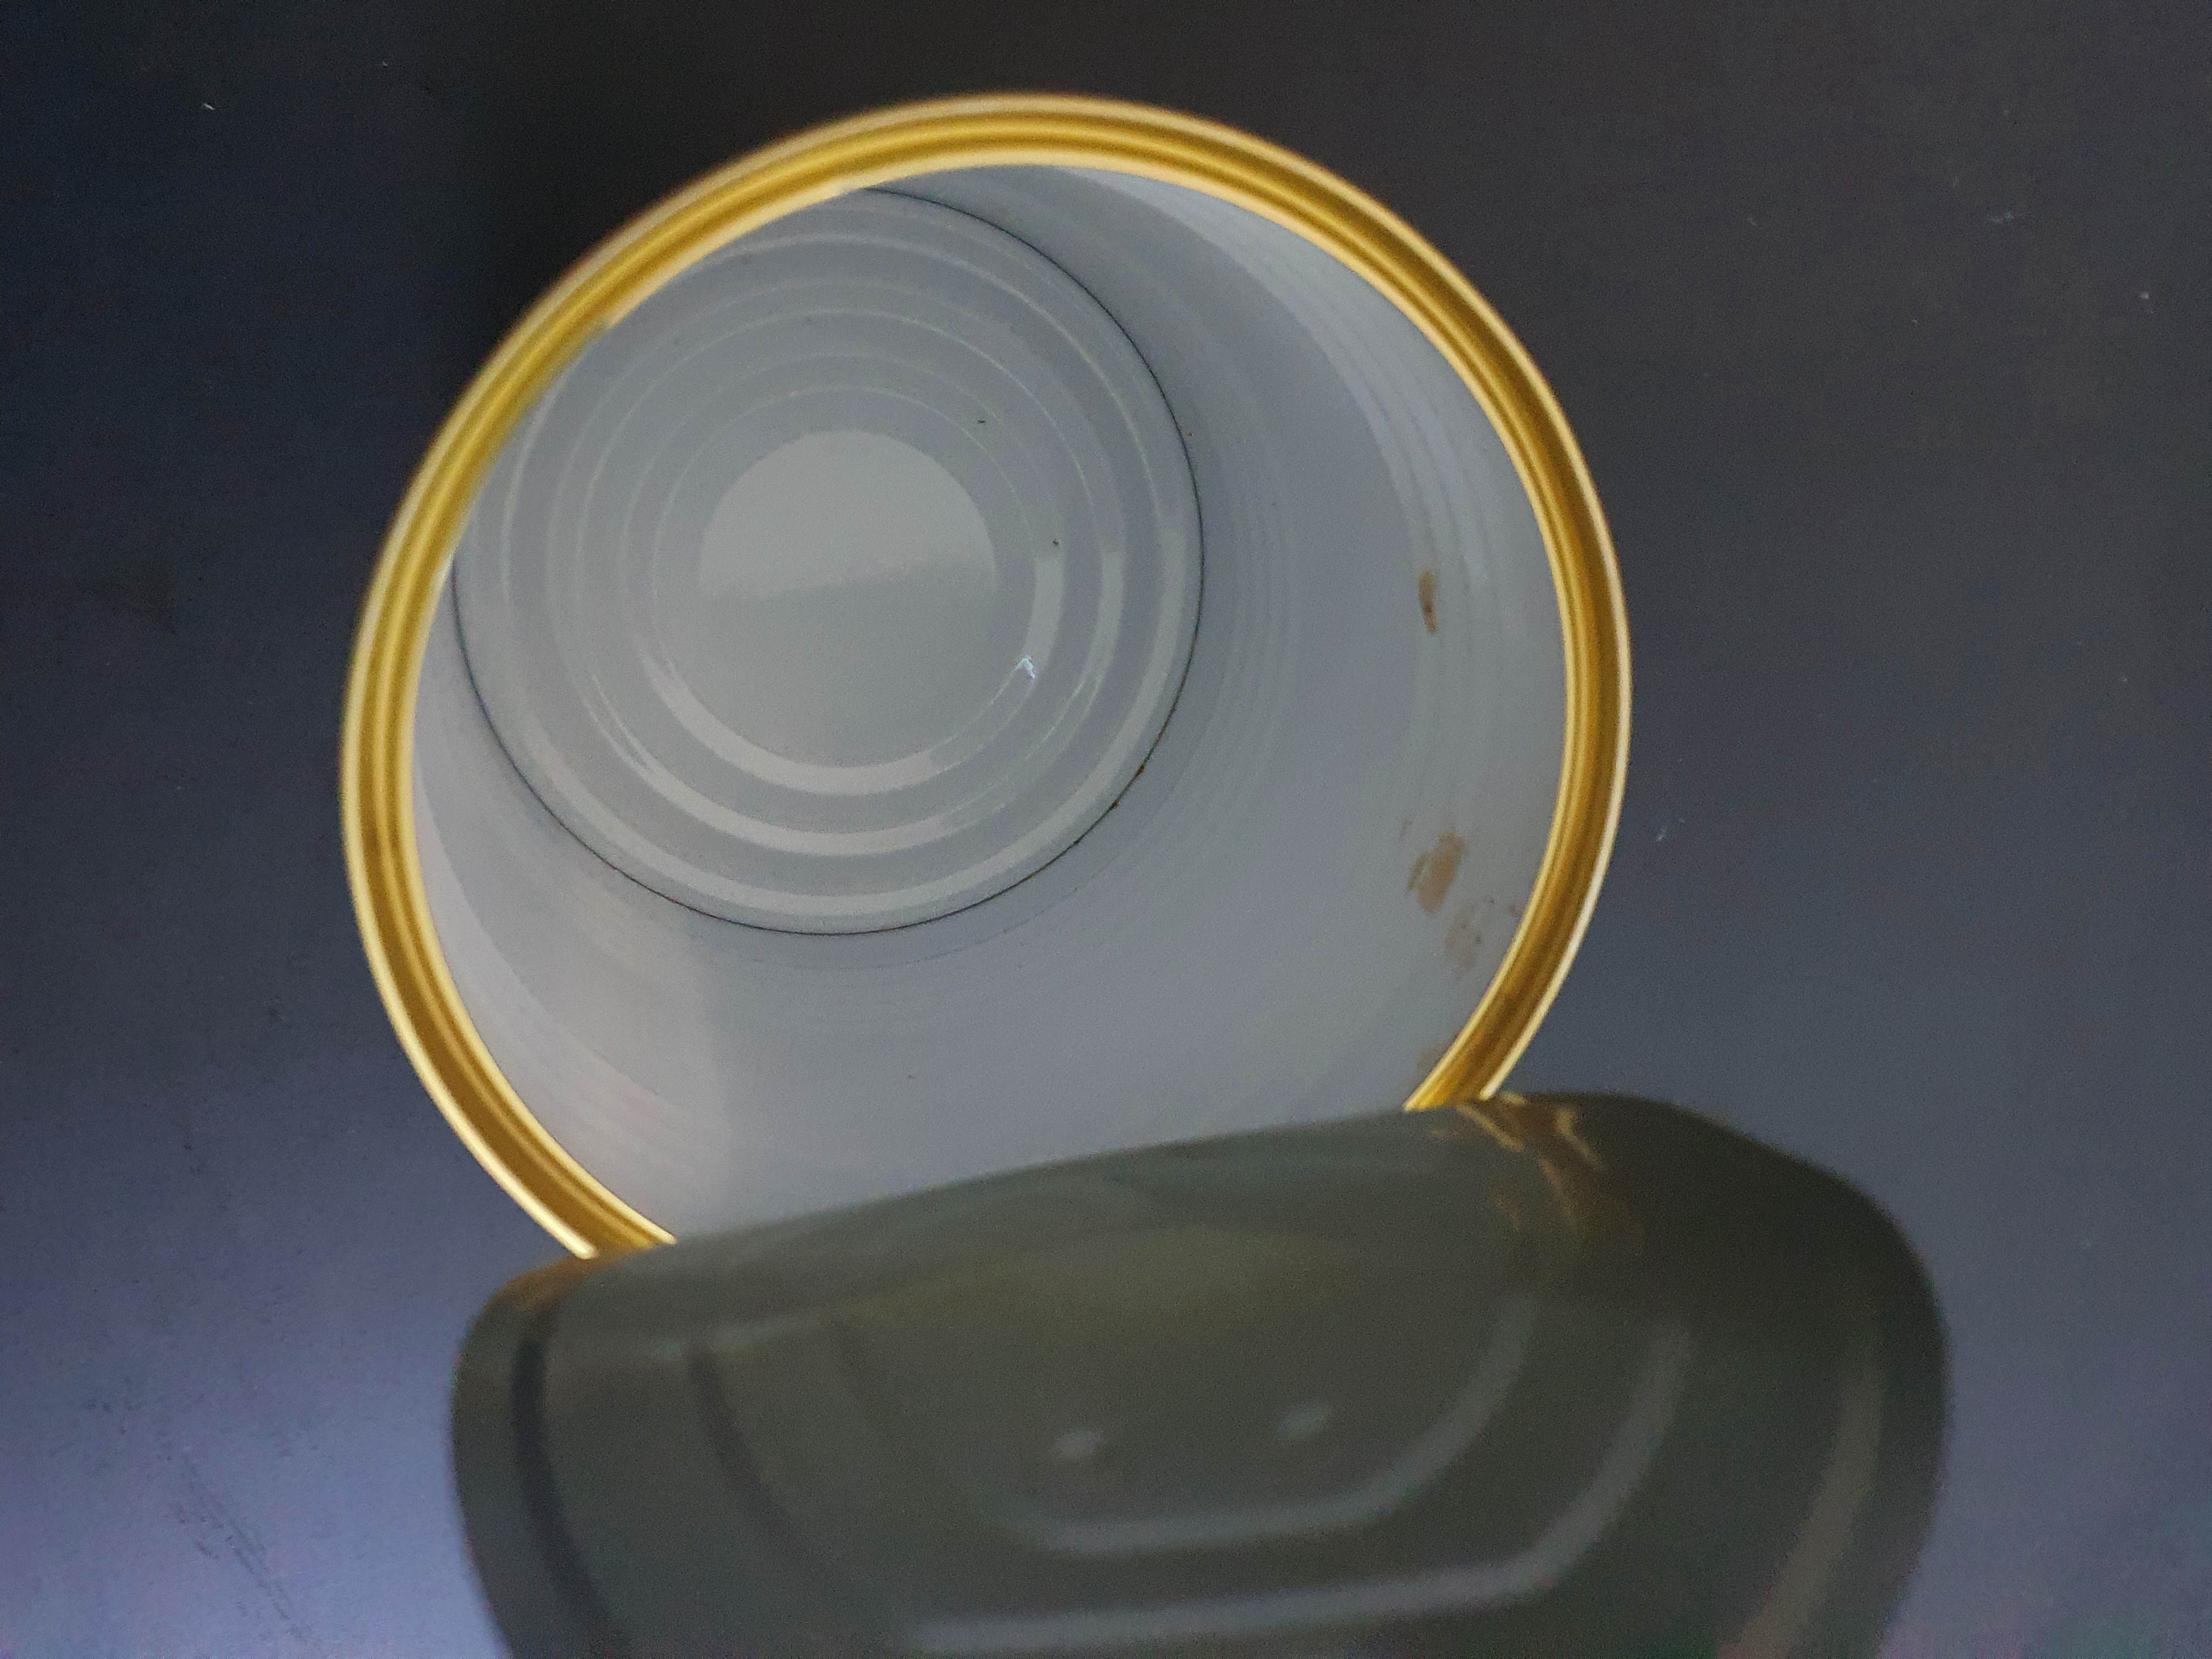metal: (317, 52, 1986, 1659)
